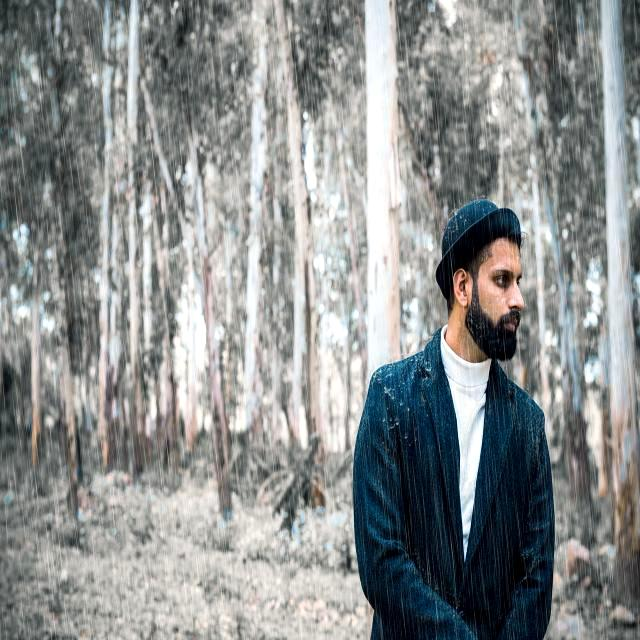no_hard_hat: (436, 199, 526, 299)
person: (354, 199, 554, 639)
